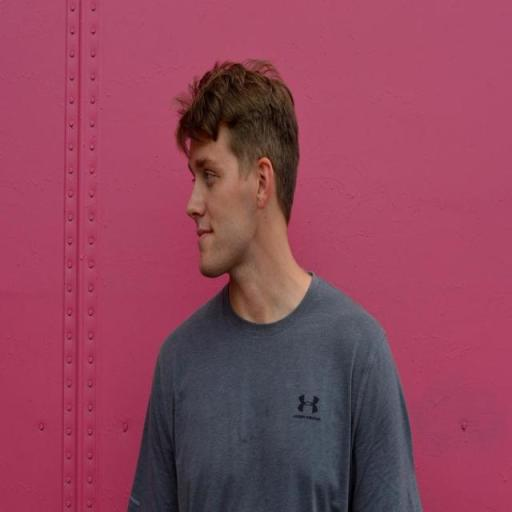Under Armour: (292, 392, 323, 424)
